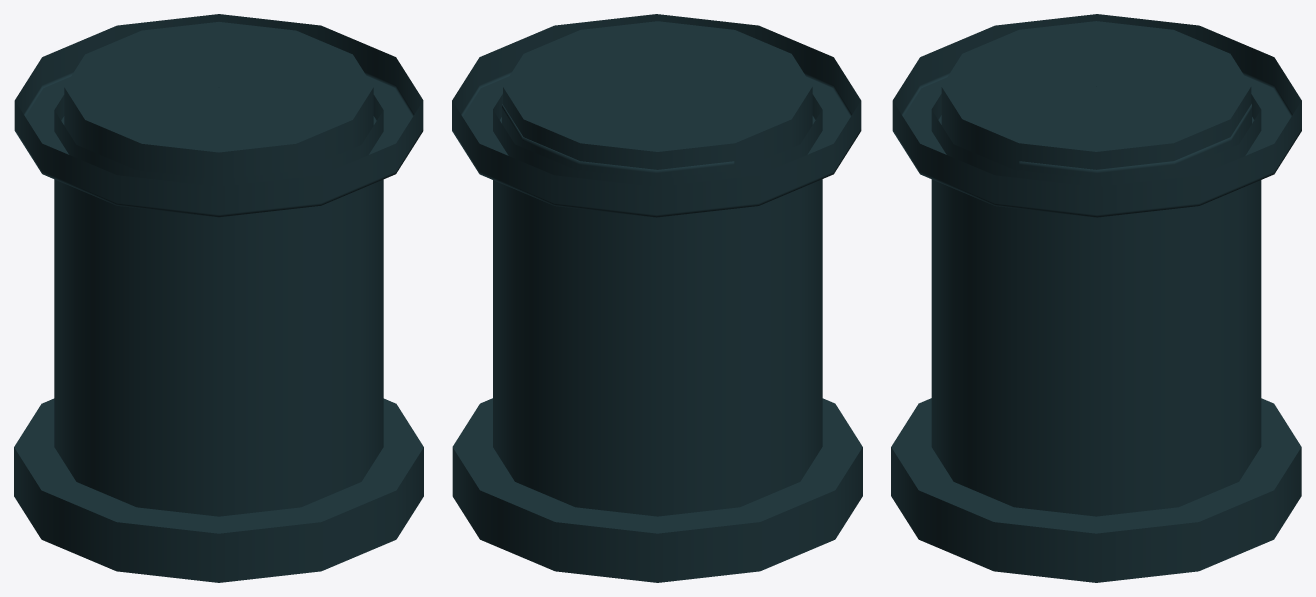
File: Ventilador.fbx
The picture shows the model from 3 angles, left to right: view 1: azimuth 30°, elevation 25°; view 2: azimuth 150°, elevation 25°; view 3: azimuth 270°, elevation 25°; orthographic projection.
Visible parts, largest first — view 1: Cube.100, Cylinder.038; view 2: Cube.100, Cylinder.038; view 3: Cube.100, Cylinder.038.
Boxes of the visible parts, x1,y1,x2,y2 form: Cube.100: [14, 22, 423, 582]; Cylinder.038: [14, 14, 423, 217]; Cube.100: [452, 21, 862, 582]; Cylinder.038: [452, 14, 861, 217]; Cube.100: [891, 21, 1301, 582]; Cylinder.038: [892, 14, 1301, 217].
Size of the model in its own units: 122 by 137 by 122.
